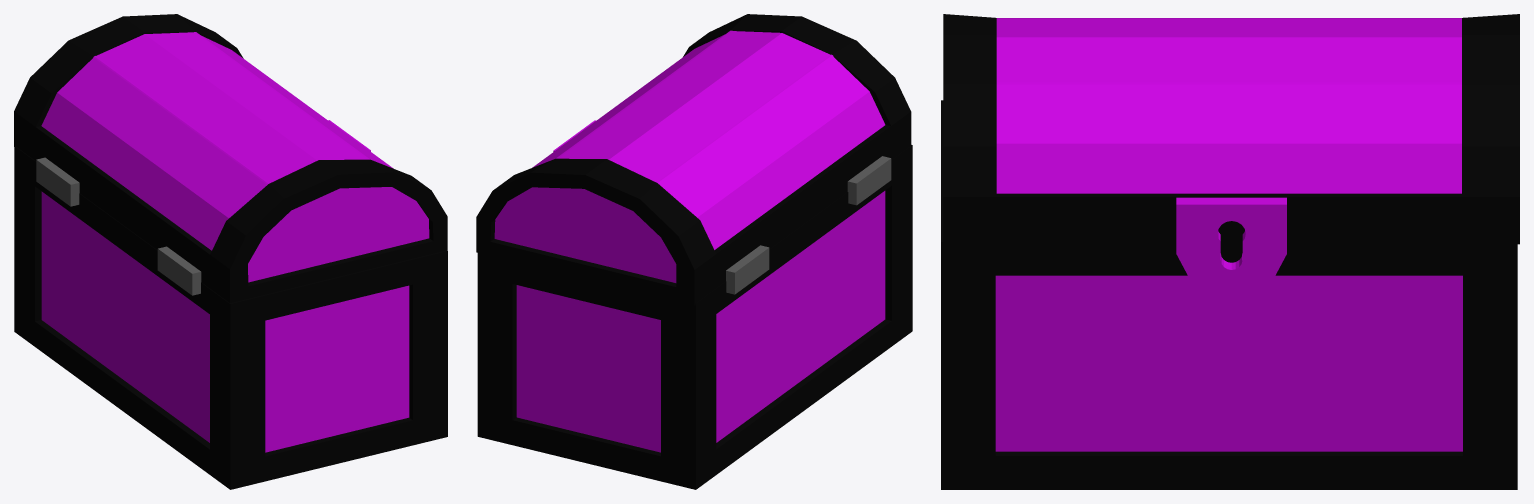
The model's file is Cofre morado.fbx.
3 renders of one model, left to right at view 1: azimuth 30°, elevation 25°; view 2: azimuth 150°, elevation 25°; view 3: azimuth 270°, elevation 25°, orthographic. The views are drawn at different scales.
Parts seen in each view (by area): view 1: Cube.053, Cube.054; view 2: Cube.053, Cube.054; view 3: Cube.053, Cube.054.
Part boxes in pixels (<box>): Cube.053: <box>14,146,447,489</box>; Cube.054: <box>14,14,447,303</box>; Cube.053: <box>477,145,912,489</box>; Cube.054: <box>476,14,911,305</box>; Cube.053: <box>941,100,1517,489</box>; Cube.054: <box>943,14,1519,290</box>.
Size of the model in its own units: 65.83 by 76.42 by 104.
